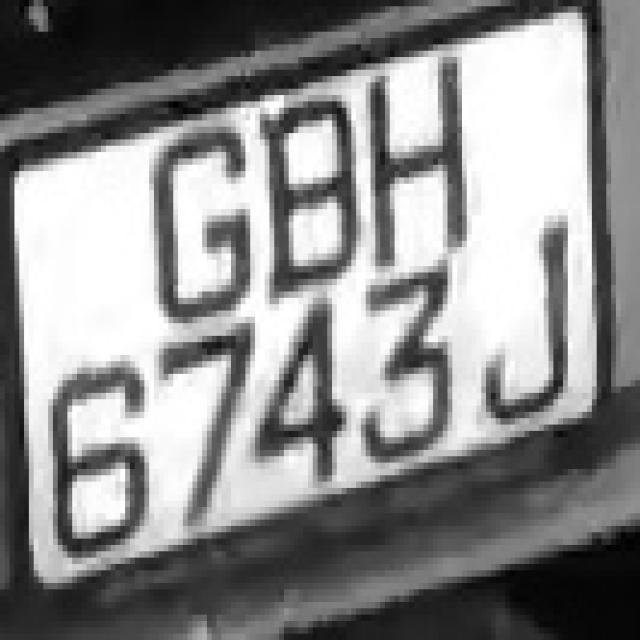3: (361, 260, 447, 494)
4: (241, 285, 356, 494)
6: (34, 361, 154, 564)
7: (139, 336, 260, 558)
B: (250, 82, 361, 298)
G: (144, 95, 250, 336)
H: (347, 64, 481, 272)
J: (472, 228, 587, 482)
